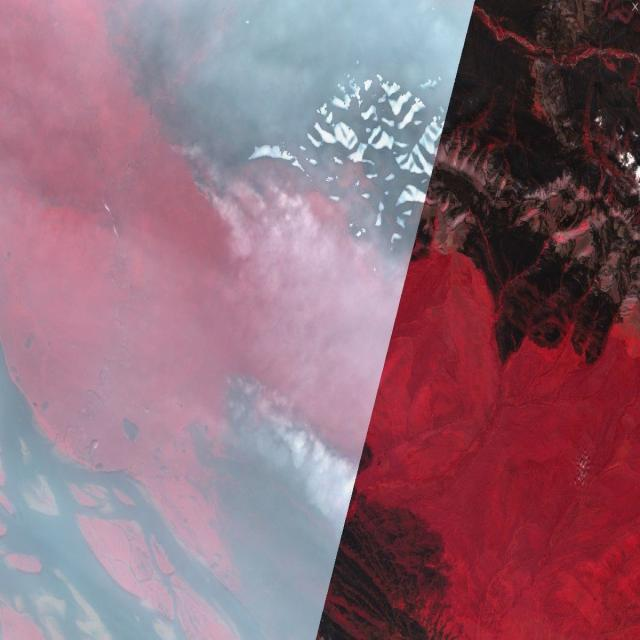fire: (168, 130, 372, 260), (213, 364, 359, 499)
